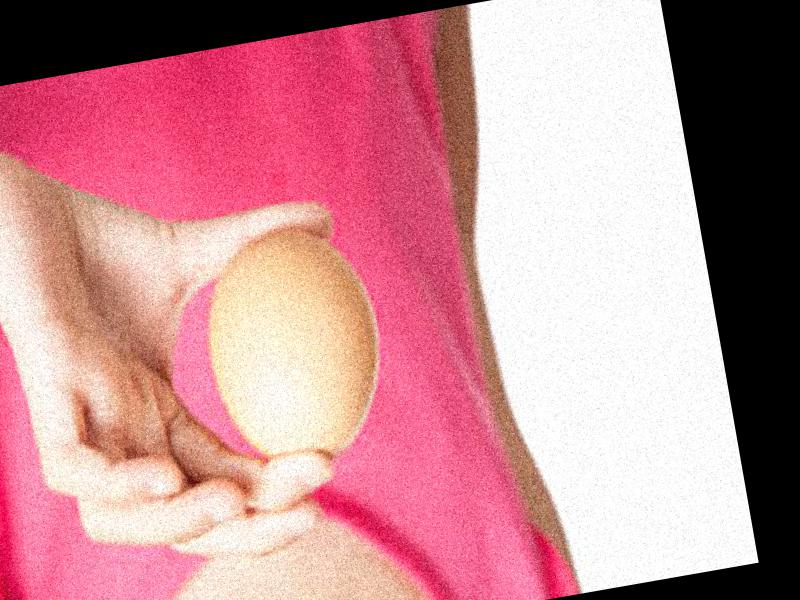Eggs: (192, 219, 396, 480)
